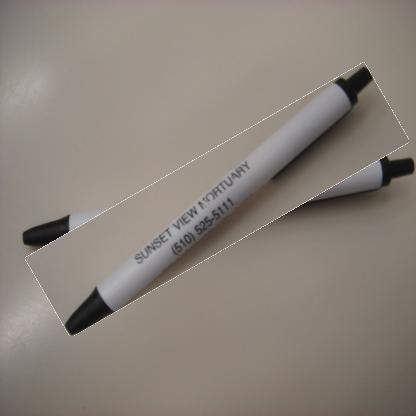Pen: (24, 108, 412, 291)
